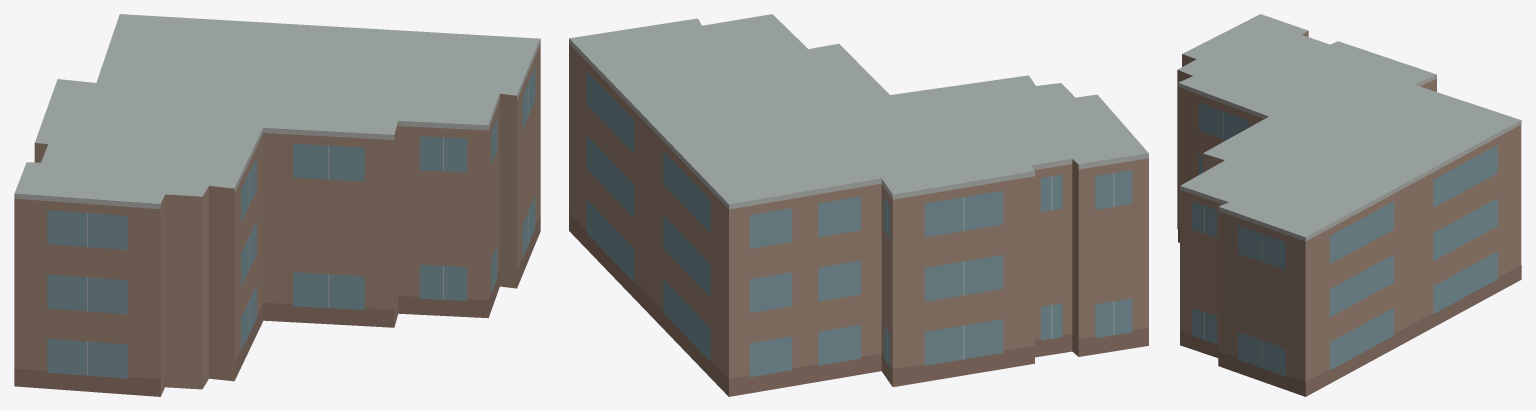
The model's file is survey-upis-32576524.glb.
3 renders of one model, left to right at view 1: azimuth 30°, elevation 25°; view 2: azimuth 150°, elevation 25°; view 3: azimuth 270°, elevation 25°, orthographic. The views are drawn at different scales.
Parts seen in each view (by area): view 1: survey-upis-32576524.tmp; view 2: survey-upis-32576524.tmp; view 3: survey-upis-32576524.tmp.
Part boxes in pixels (bbox=[...]): survey-upis-32576524.tmp: bbox=[14, 14, 540, 396]; survey-upis-32576524.tmp: bbox=[569, 14, 1148, 396]; survey-upis-32576524.tmp: bbox=[1177, 14, 1521, 396].
Bounding box in the file's own units: 27.49 × 9.15 × 17.88.
